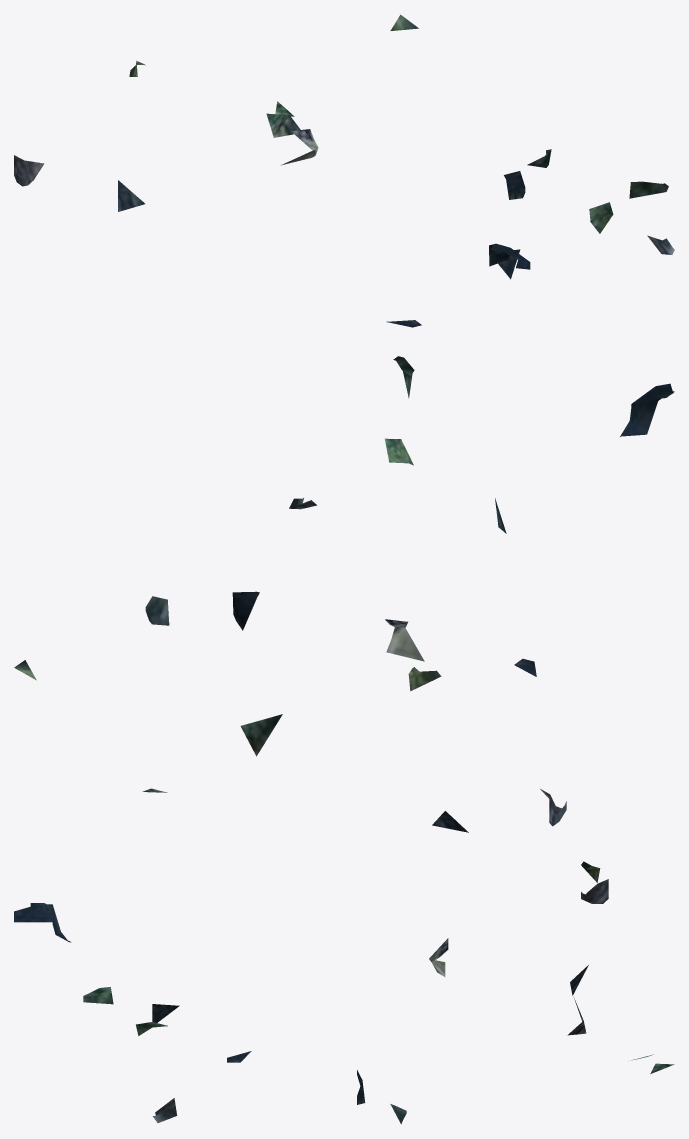
3 renders of one model, top to bottom at view 1: azimuth 30°, elevation 25°; view 2: azimuth 150°, elevation 25°; view 3: azimuth 270°, elevation 25°, orthographic. The views are drawn at different scales.
Visible parts, largest first — view 1: 30436272704370404721_1; view 2: 30436272704370404721_1; view 3: 30436272704370404721_1.
Part boxes in pixels (bbox=[...]): 30436272704370404721_1: bbox=[14, 14, 674, 327]; 30436272704370404721_1: bbox=[14, 356, 674, 832]; 30436272704370404721_1: bbox=[14, 861, 674, 1124].
Size of the model in its own units: 27.32 by 9.09 by 36.87.
Materials: 1 (1 with a texture image).
